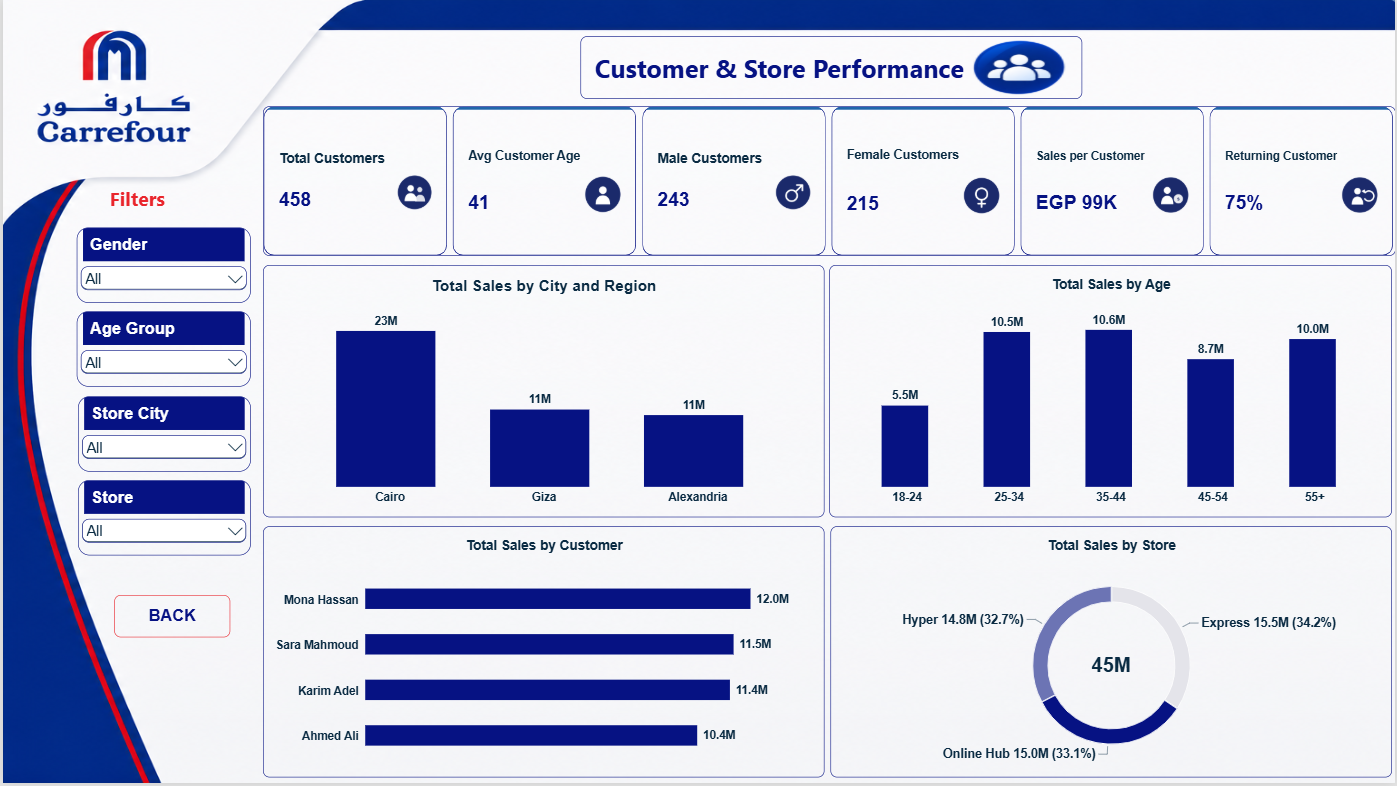

Layout of this report page (visuals, bound fields, positions):
{"tool":"powerbi","page":{"name":"Customer & Store ","canvas":[1920,1080],"ordinal":4},"visuals":[{"type":"cardVisual","fields":{"Data":["Sales.Total Customers","Sales.Average Customer Age","Sales.Male Customers","Sales.Female Customers","Sales.Sales per Customer","Sales.Returning Customer %"]},"box":[358,146,1562,206],"z":0},{"type":"columnChart","title":"Total Sales by Age","fields":{"Category":["Sales.AgeGroup"],"Y":["Sales.Total Sales *"]},"box":[1140,366,776,348],"z":1000},{"type":"barChart","title":"Total Sales by Customer","fields":{"Y":["Sales.Total Sales *"],"Category":["Sales.CustomerName"]},"box":[358,726,774,346],"z":2000},{"type":"clusteredColumnChart","title":"Total Sales by City and Region","fields":{"Category":["Sales.Store City"],"Y":["Sales.Total Sales *"]},"box":[358,366,774,348],"z":3000},{"type":"donutChart","title":"Total Sales by Store","fields":{"Category":["Sales.StoreType"],"Y":["Sales.Total Sales *"]},"box":[1142,726,774,346],"z":4000},{"type":"slicer","fields":{"Values":["Sales.Gender"]},"box":[102,314,240,104],"z":5000},{"type":"slicer","fields":{"Values":["Sales.AgeGroup"]},"box":[102,430,240,104],"z":6000},{"type":"slicer","fields":{"Values":["Sales.Store City"]},"box":[104,546,238,104],"z":7000},{"type":"slicer","fields":{"Values":["Sales.StoreName"]},"box":[104,662,238,104],"z":8000},{"type":"shape","box":[66,237.7,239.6,66],"z":9000},{"type":"shape","box":[796,50,692,86],"z":10000},{"type":"actionButton","box":[154,820,160,58],"z":11000},{"type":"image","box":[1314,36,174,118],"z":12000}]}

Visuals, with their boxes in screenshot pixels (x1, y1, x2, y2), scaled from the page's 1920x1080 canvas onto the 1397x786 screenshot:
cardVisual - Sales.Total Customers x Sales.Average Customer Age: Rect(260, 106, 1396, 256)
"Total Sales by Age" columnChart: Rect(829, 266, 1394, 520)
"Total Sales by Customer" barChart: Rect(260, 528, 824, 780)
"Total Sales by City and Region" clusteredColumnChart: Rect(260, 266, 824, 520)
"Total Sales by Store" donutChart: Rect(831, 528, 1394, 780)
slicer - Sales.Gender: Rect(74, 229, 249, 304)
slicer - Sales.AgeGroup: Rect(74, 313, 249, 389)
slicer - Sales.Store City: Rect(76, 397, 249, 473)
slicer - Sales.StoreName: Rect(76, 482, 249, 557)
shape: Rect(48, 173, 222, 221)
shape: Rect(579, 36, 1083, 99)
actionButton: Rect(112, 597, 228, 639)
image: Rect(956, 26, 1083, 112)
